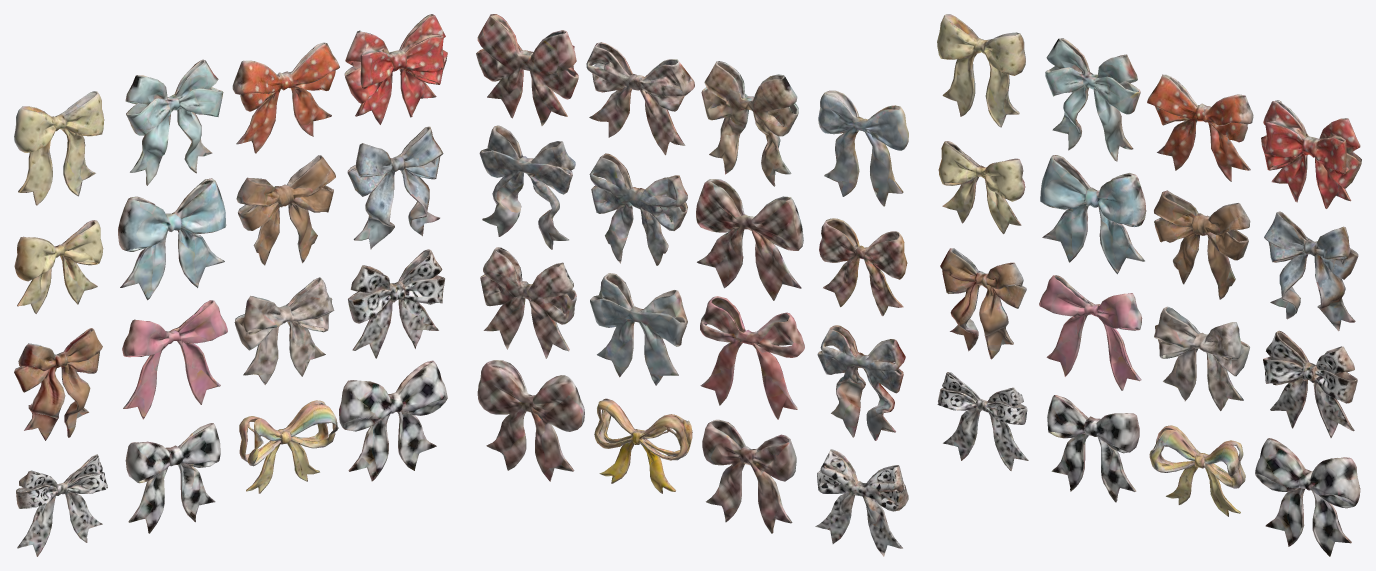
The picture shows the model from 3 angles, left to right: view 1: azimuth 30°, elevation 25°; view 2: azimuth 150°, elevation 25°; view 3: azimuth 330°, elevation 25°; orthographic projection. The views are drawn at different scales.
Parts seen in each view (by area): view 1: Mesh 5, Mesh 13, Mesh 14, Mesh 7, Mesh 16, Mesh 15, Mesh 9, Mesh 10, Mesh 1, Mesh 11, Mesh 3, Mesh 8 (+4 smaller); view 2: Mesh 5, Mesh 13, Mesh 14, Mesh 7, Mesh 15, Mesh 10, Mesh 9, Mesh 6, Mesh 16, Mesh 11, Mesh 8, Mesh 1 (+4 smaller); view 3: Mesh 5, Mesh 13, Mesh 14, Mesh 7, Mesh 16, Mesh 15, Mesh 9, Mesh 11, Mesh 10, Mesh 1, Mesh 8, Mesh 3 (+4 smaller).
Part boxes in pixels (x1,y1,x2,y2): Mesh 5: [118, 178, 226, 300]; Mesh 13: [339, 360, 447, 481]; Mesh 14: [344, 14, 447, 124]; Mesh 7: [125, 59, 223, 185]; Mesh 16: [347, 126, 443, 249]; Mesh 15: [348, 249, 444, 358]; Mesh 9: [232, 42, 339, 153]; Mesh 10: [234, 277, 334, 384]; Mesh 1: [14, 91, 104, 205]; Mesh 11: [236, 155, 335, 265]; Mesh 3: [14, 328, 102, 440]; Mesh 8: [125, 423, 220, 533]; Mesh 5: [696, 179, 803, 300]; Mesh 13: [477, 360, 584, 481]; Mesh 14: [476, 14, 578, 125]; Mesh 7: [701, 61, 798, 186]; Mesh 15: [480, 247, 576, 358]; Mesh 10: [590, 273, 687, 385]; Mesh 9: [586, 42, 694, 155]; Mesh 6: [700, 296, 804, 419]; Mesh 16: [479, 125, 575, 249]; Mesh 11: [589, 153, 687, 265]; Mesh 8: [702, 419, 796, 533]; Mesh 1: [818, 90, 908, 206]; Mesh 5: [1040, 155, 1146, 274]; Mesh 13: [1255, 438, 1360, 556]; Mesh 14: [1261, 100, 1361, 208]; Mesh 7: [1045, 38, 1140, 161]; Mesh 16: [1264, 211, 1358, 331]; Mesh 15: [1263, 330, 1357, 437]; Mesh 9: [1147, 74, 1253, 181]; Mesh 11: [1154, 190, 1250, 299]; Mesh 10: [1154, 306, 1249, 410]; Mesh 1: [937, 14, 1025, 127]; Mesh 8: [1047, 395, 1139, 502]; Mesh 3: [940, 248, 1026, 359].
Size of the model in its own units: 1.86 by 1.9 by 0.1494.
16 materials, 16 textured.
